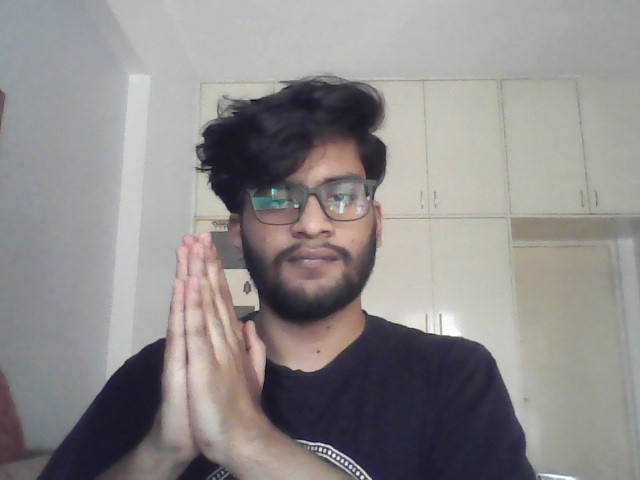Namaskara: (151, 228, 272, 471)
